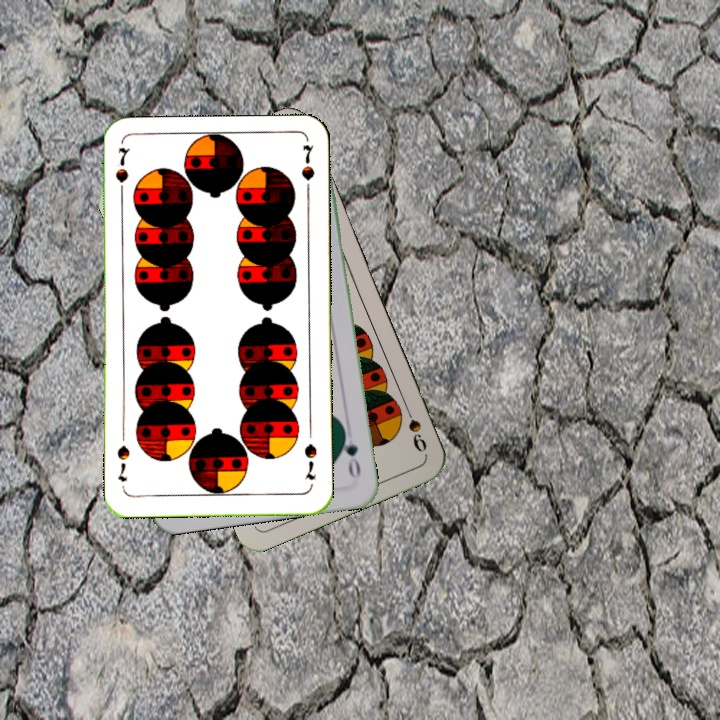GO: (337, 424, 363, 483)
S7: (112, 143, 133, 201), (301, 439, 320, 483)
S9: (399, 399, 430, 455)
